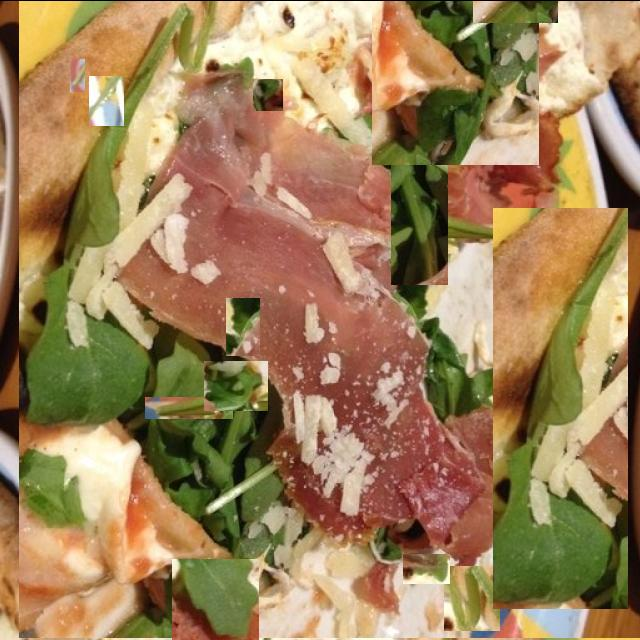basil: (494, 207, 630, 608), (372, 0, 539, 164), (444, 138, 538, 300), (392, 103, 449, 284), (172, 558, 259, 640), (99, 123, 157, 233), (567, 106, 640, 188), (422, 0, 496, 74), (189, 220, 230, 322), (386, 38, 438, 114), (444, 565, 500, 630), (204, 360, 268, 410), (222, 426, 270, 473), (143, 230, 193, 272), (226, 297, 260, 355), (145, 396, 233, 418), (474, 0, 558, 22), (89, 75, 124, 125), (403, 553, 450, 583), (253, 78, 283, 110), (70, 58, 85, 91)
pizza: (19, 0, 640, 637)
